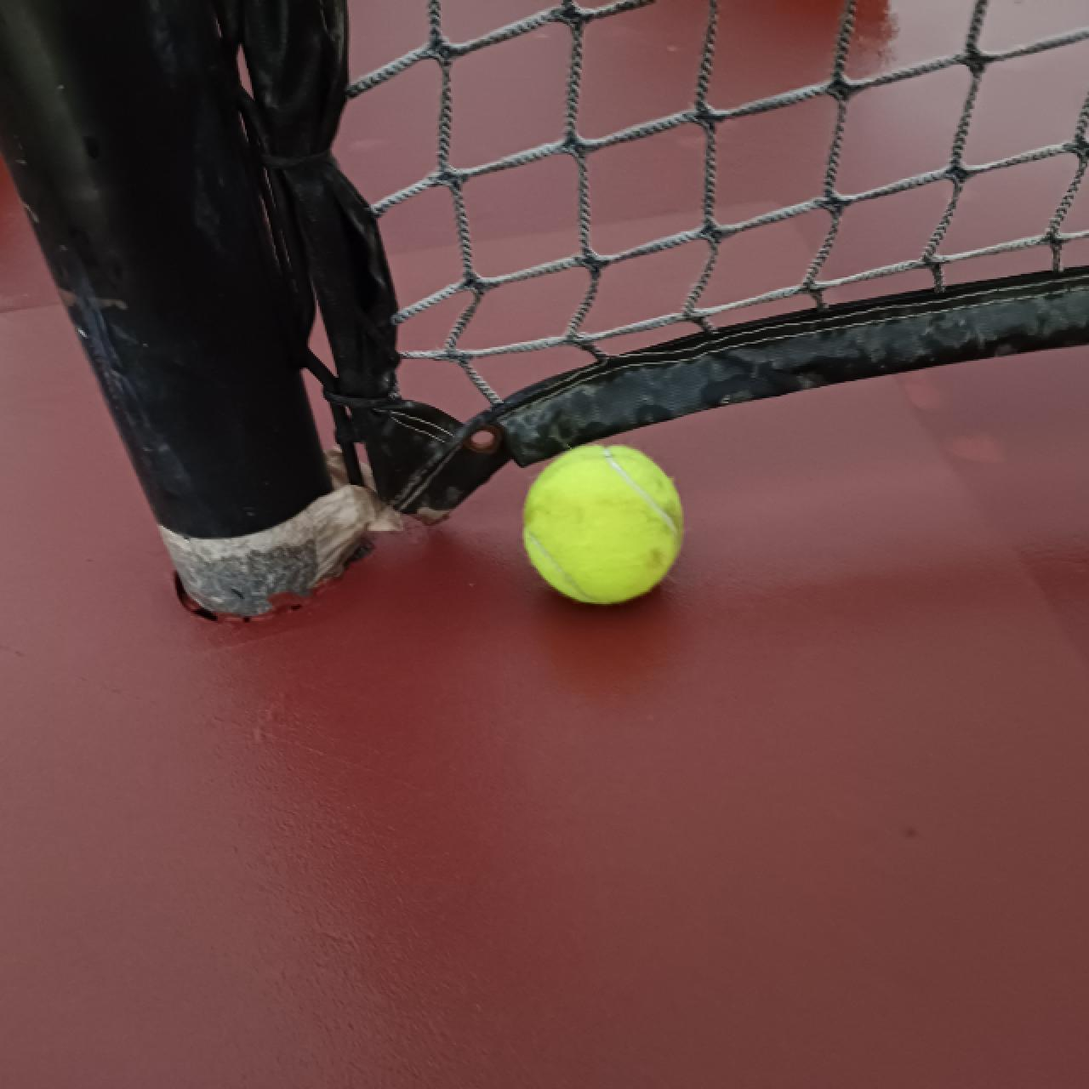tennis-ball: (520, 439, 685, 606)
